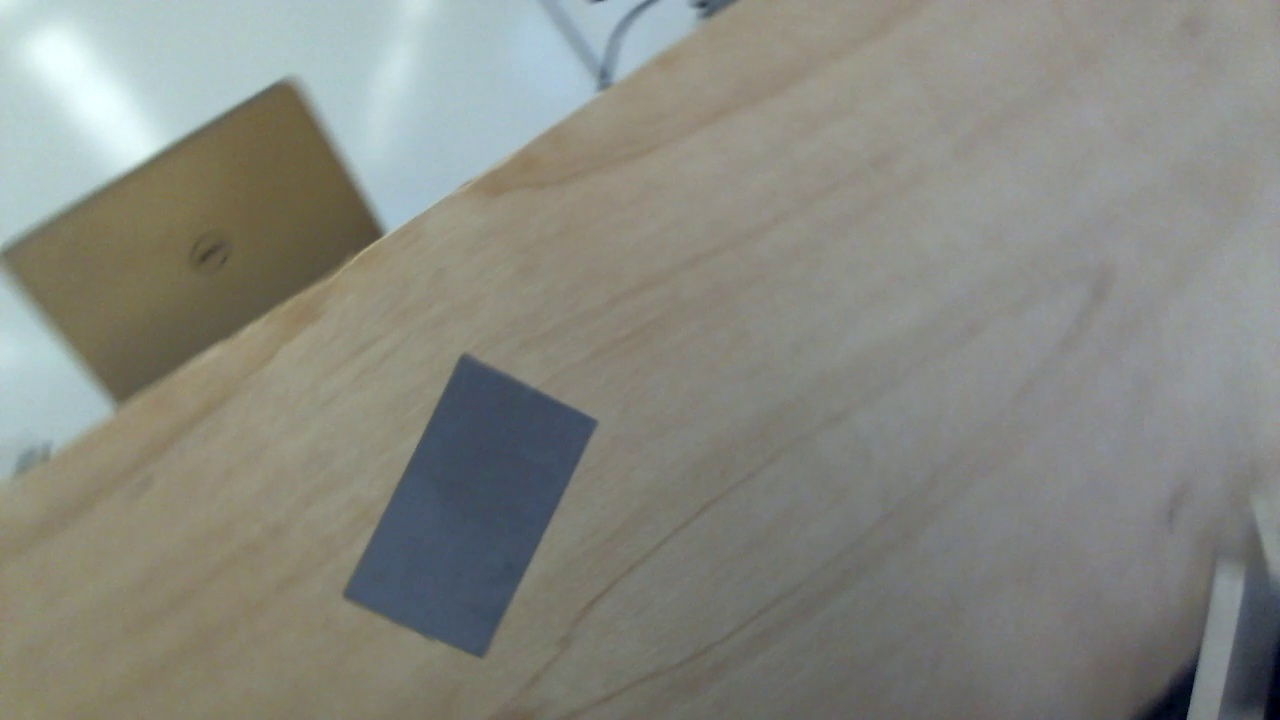Tape: (341, 353, 599, 662)
